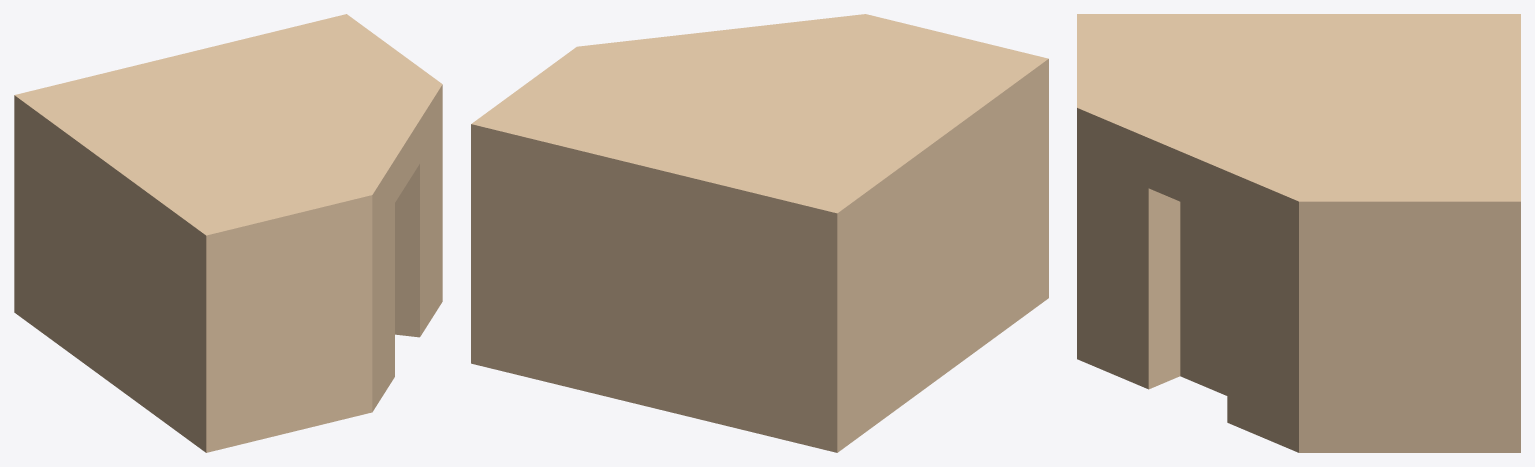
File: building-corner-window-narrow.obj
3 views of the same model, side by side, from view 1: azimuth 30°, elevation 25°; view 2: azimuth 150°, elevation 25°; view 3: azimuth 270°, elevation 25° (orthographic). The views are drawn at different scales.
Bounding box in the file's own units: 1 × 0.625 × 1.
